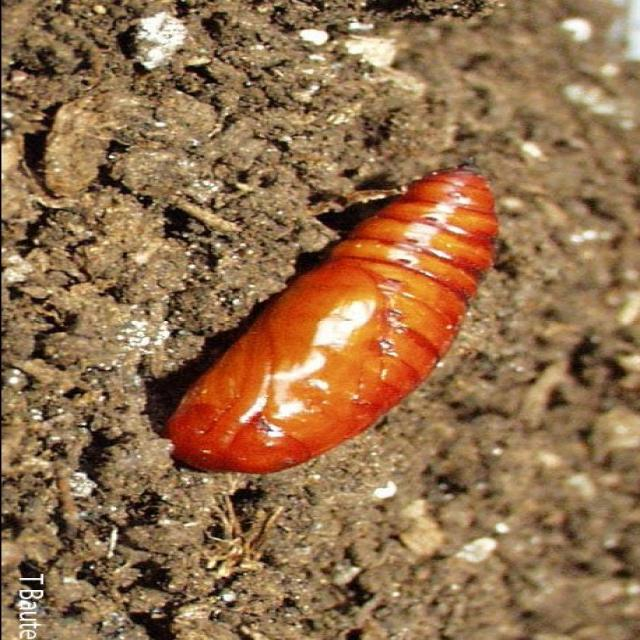black cutworm: (138, 157, 511, 502)
